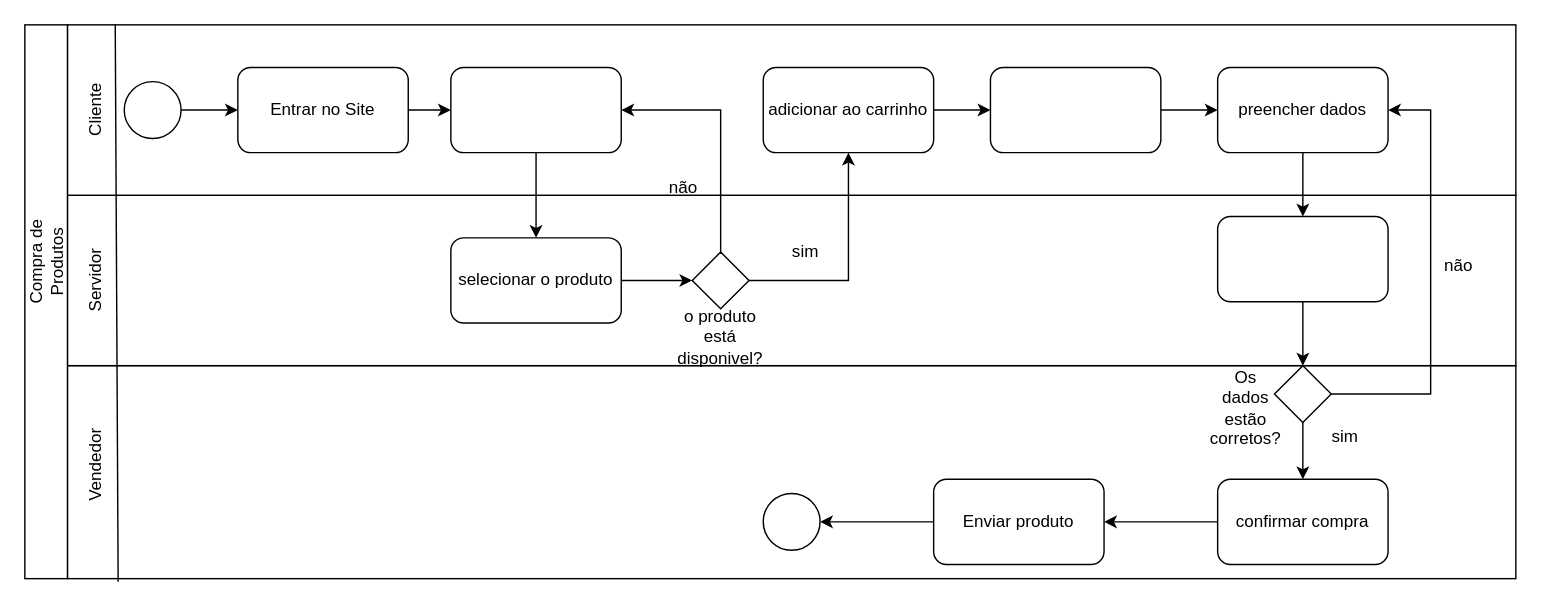
The diagram is 1541 pixels wide and 609 high, and some of its shapes have lost their labels. Here are the shapes that lost their labels. From the top down, the centre of each, then its label:
the point at 535,109: Pesquisar produto
the point at 1075,109: escolher forma de pagamento
the point at 1302,258: calcular o frete
